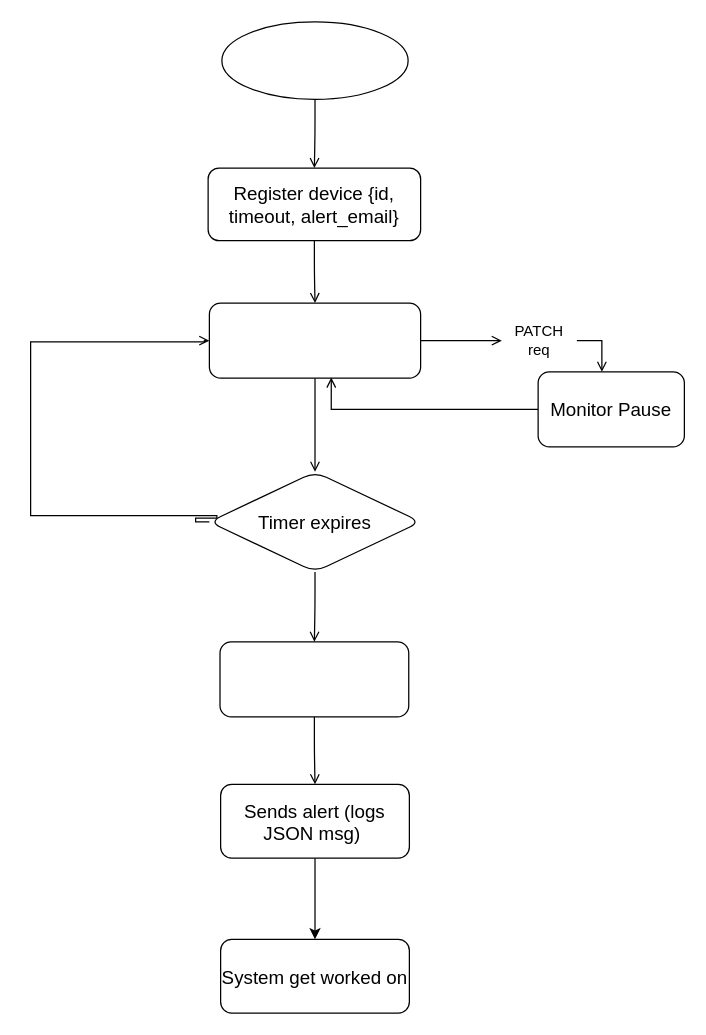
Some shapes in this 706 by 1035 pixel diagram are drawn without their labels. Each missing label, with the centre of its shape:
"Device Starts" belongs at (x=314, y=60).
"Monitor status - Down" belongs at (x=314, y=679).
"Monitor status - Healthy Timeout ticking" belongs at (x=314, y=340).
